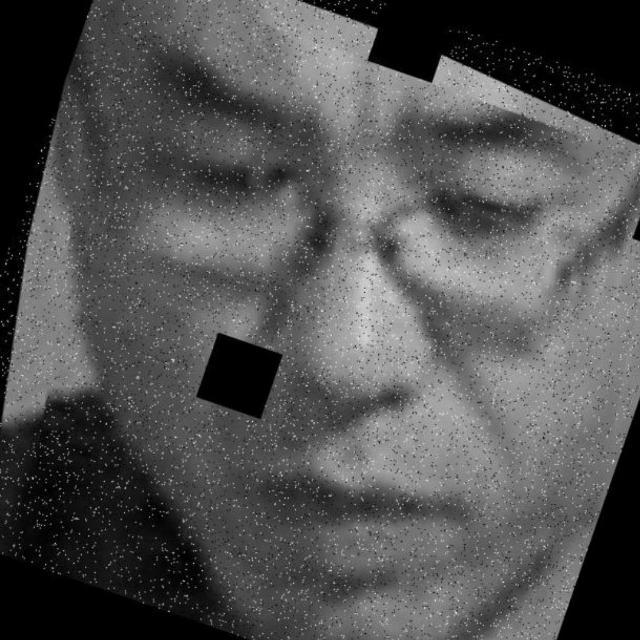Sad: (71, 40, 640, 640)
